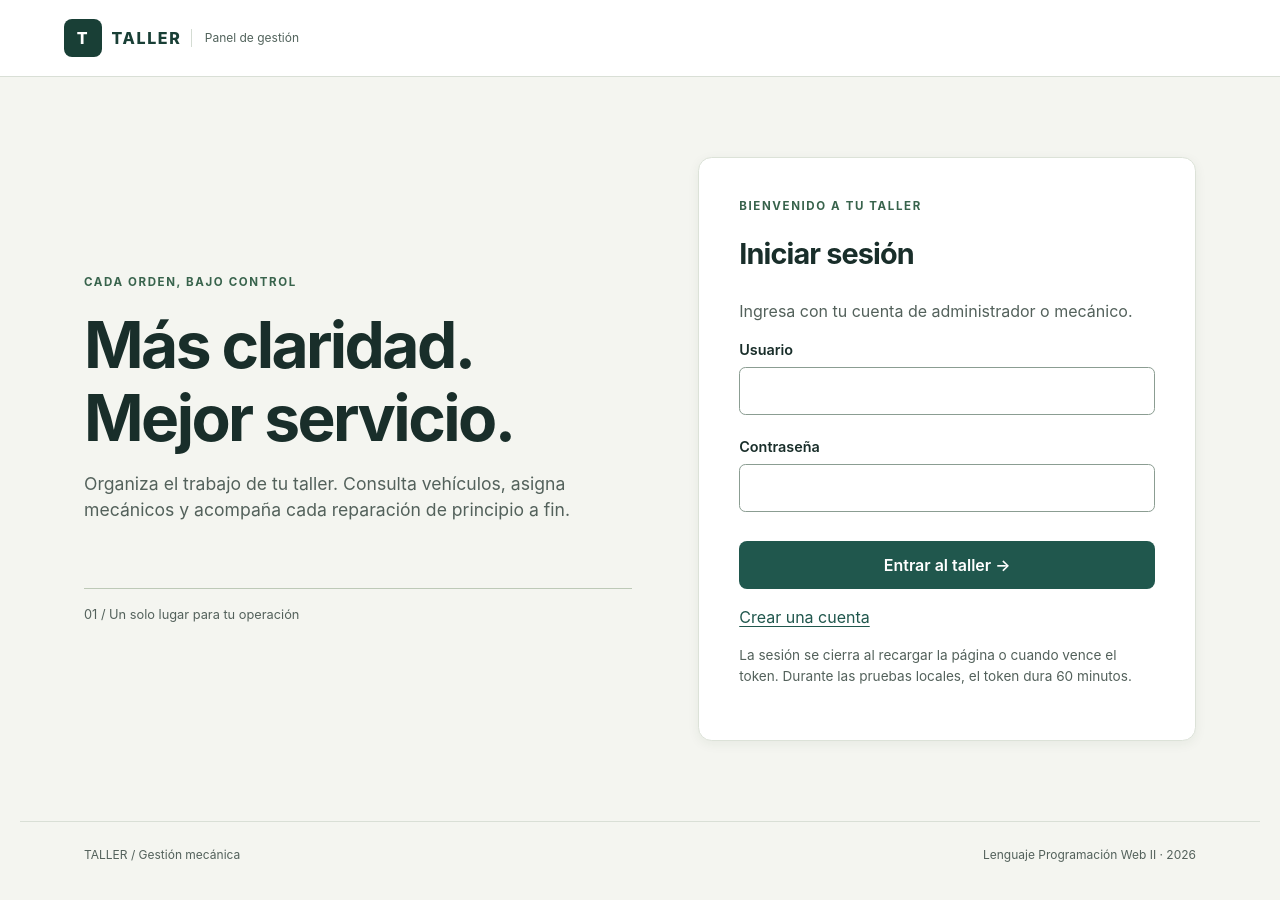
Test: muestra usuarios y roles al administrador
Type "ana" into the field labelled "Usuario". click: (947, 391)
box: x1=739 y1=367 x2=1155 y2=415
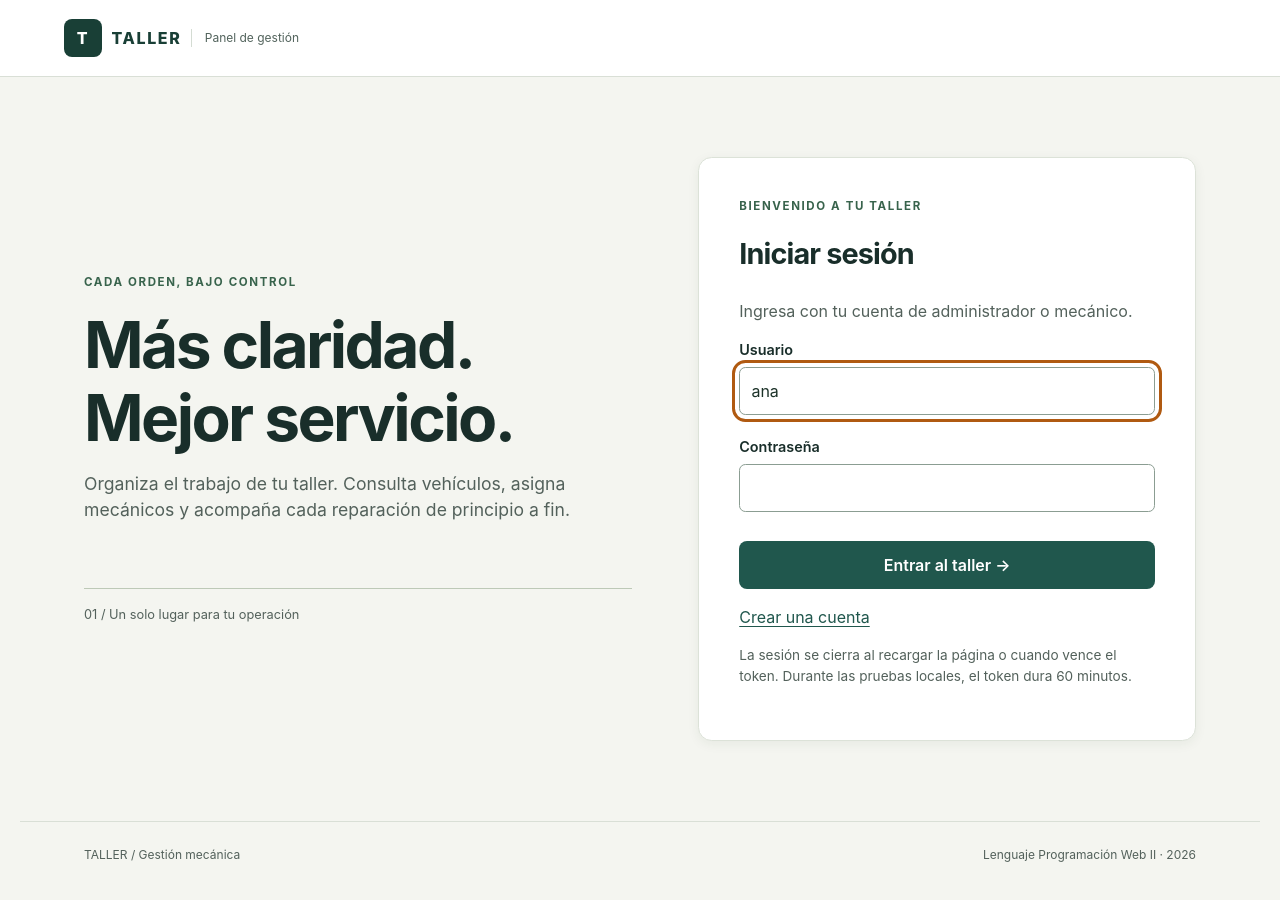
Type "secreto" into the password field labelled "Contraseña". click: (947, 488)
box: x1=739 y1=464 x2=1155 y2=512
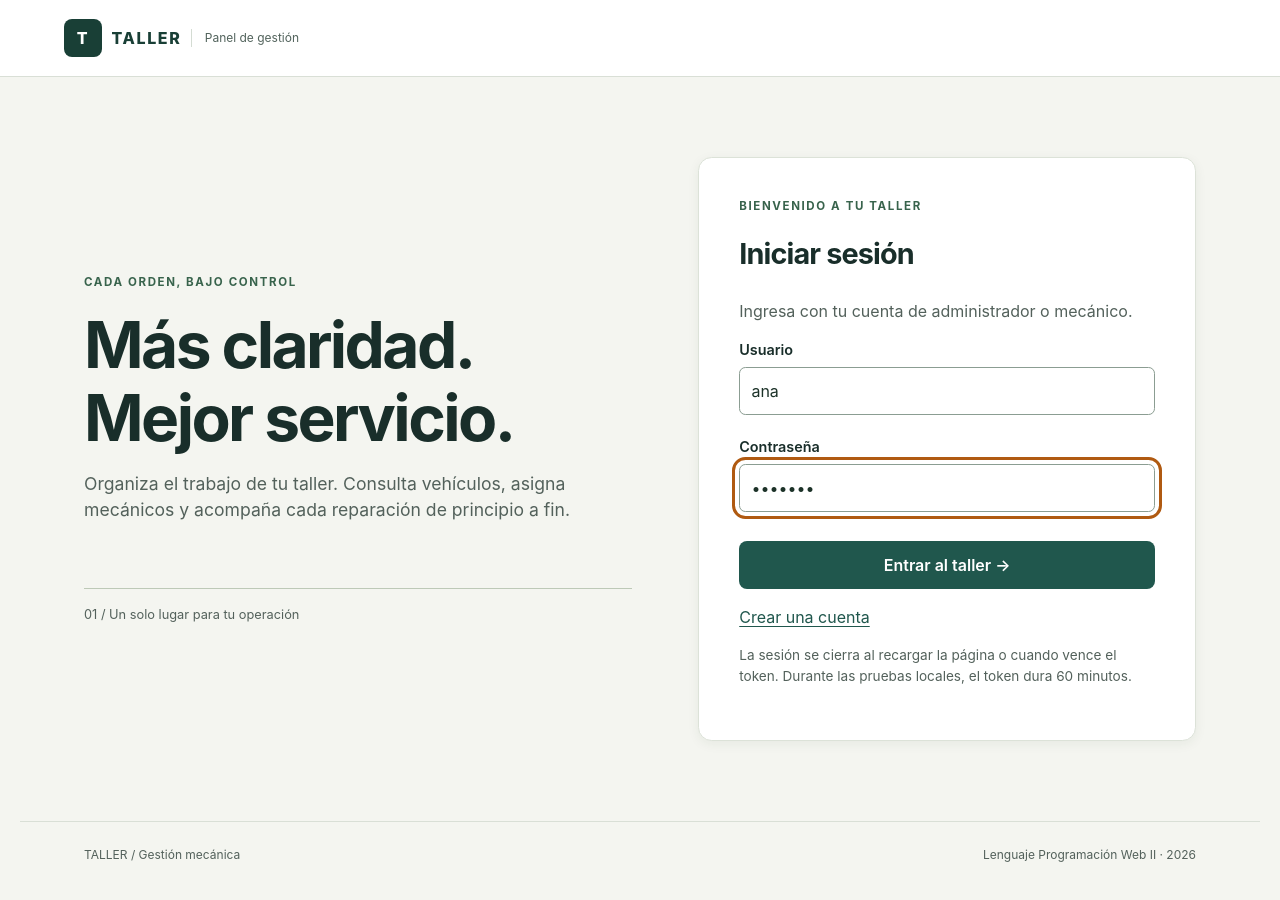
Click the button "Entrar al taller →". click: (947, 565)
box: x1=739 y1=541 x2=1155 y2=590
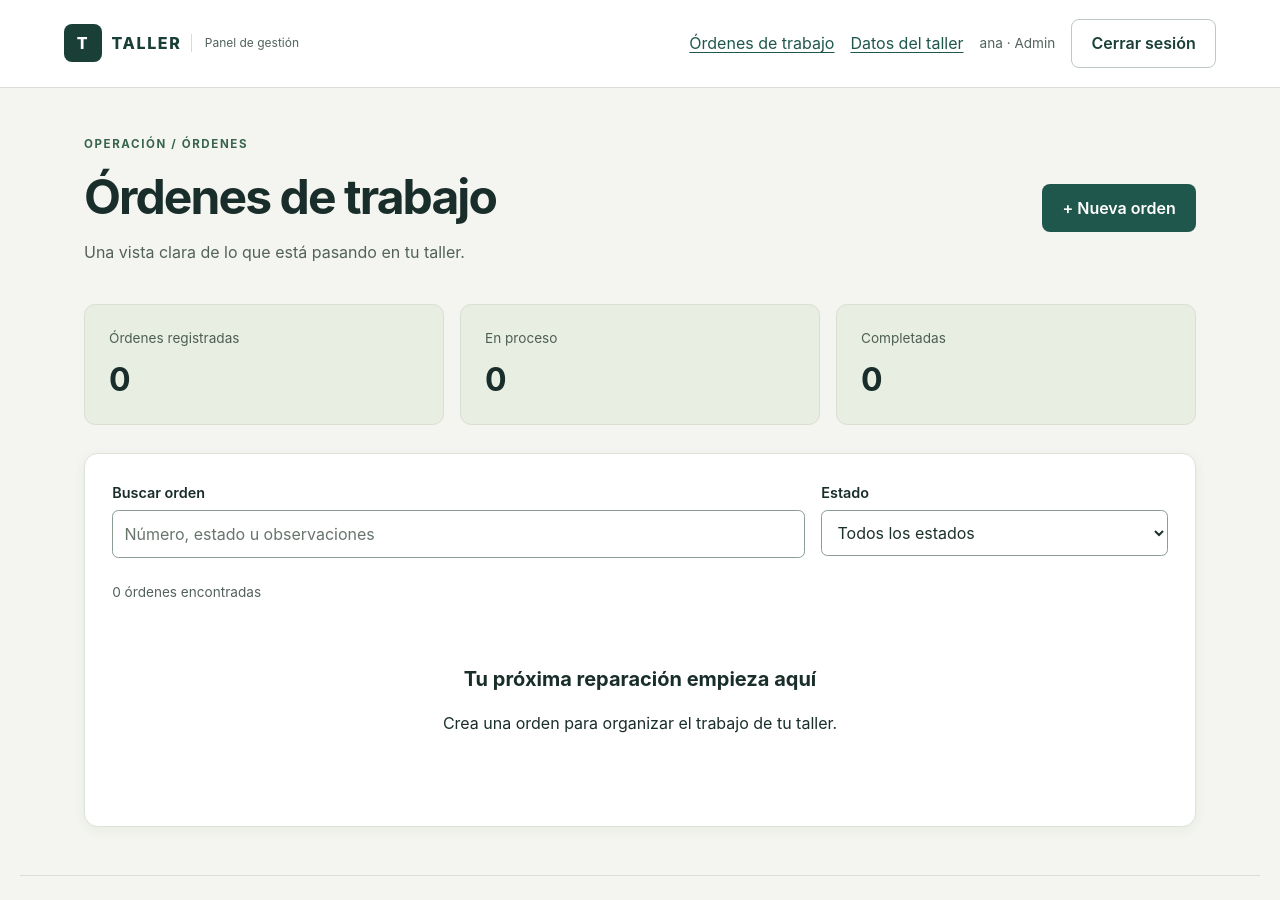
Click the link "Datos del taller". click: (907, 43)
box: x1=850 y1=33 x2=964 y2=53
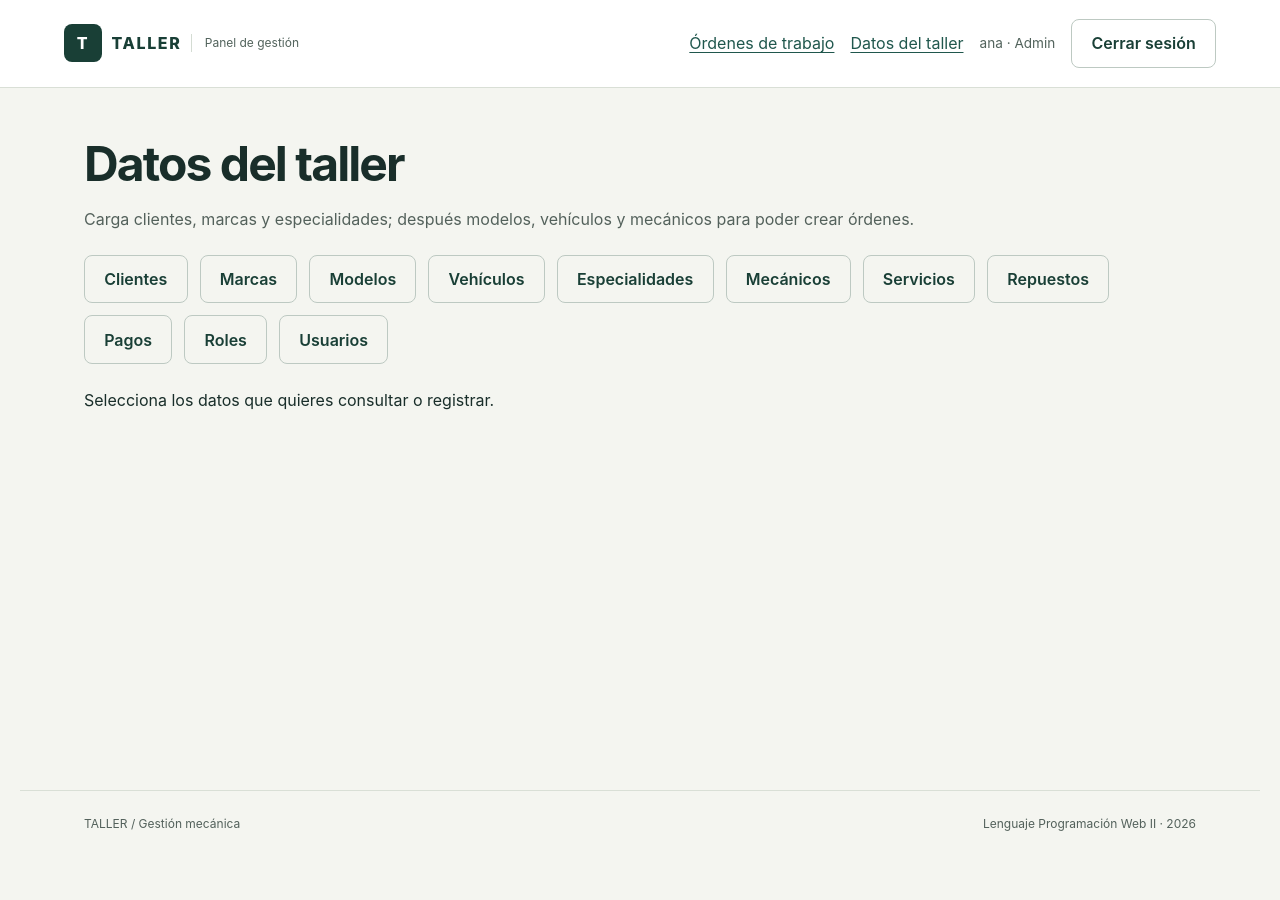
Now the link "Usuarios" is shown, box x1=279 y1=315 x2=388 y2=364
Now the link "Roles" is shown, box x1=184 y1=315 x2=267 y2=364
